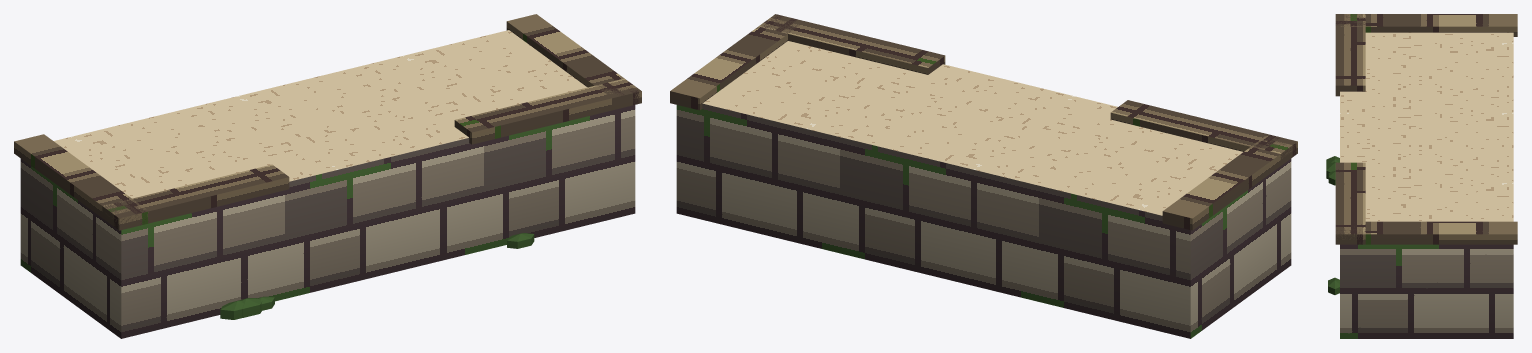
File: scene_plat_g6.glb
The picture shows the model from 3 angles, left to right: view 1: azimuth 30°, elevation 25°; view 2: azimuth 150°, elevation 25°; view 3: azimuth 270°, elevation 25°; orthographic projection. The views are drawn at different scales.
Parts seen in each view (by area): view 1: scene_plat_g6; view 2: scene_plat_g6; view 3: scene_plat_g6.
Part boxes in pixels (bbox=[...]): scene_plat_g6: bbox=[14, 14, 641, 338]; scene_plat_g6: bbox=[670, 14, 1297, 338]; scene_plat_g6: bbox=[1326, 14, 1517, 338].
Size of the model in its own units: 6.3 by 1.48 by 2.31.
Materials: 3 (2 with a texture image).
